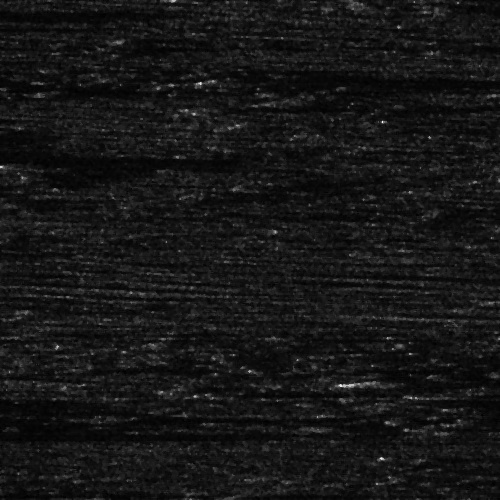object: (389, 420, 482, 433), (183, 77, 276, 86), (307, 377, 390, 386), (431, 386, 472, 397), (181, 105, 202, 110), (490, 148, 500, 155)
shadow: (0, 427, 242, 438), (229, 77, 500, 86), (0, 6, 110, 19), (349, 377, 500, 386), (436, 420, 500, 433), (192, 105, 352, 110), (0, 23, 92, 30), (451, 386, 500, 397), (0, 433, 9, 444)
